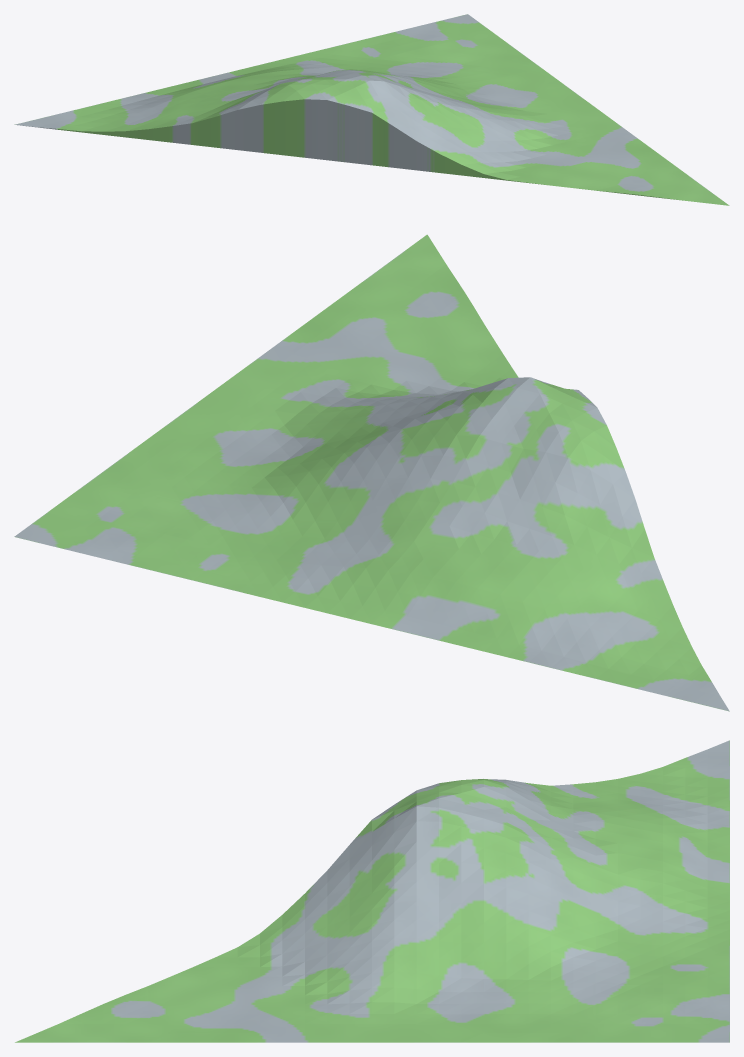
Rendered from Grass_RockyGround_11_SE.obj.
The picture shows the model from 3 angles, top to bottom: view 1: azimuth 30°, elevation 25°; view 2: azimuth 150°, elevation 25°; view 3: azimuth 270°, elevation 25°; orthographic projection. The views are drawn at different scales.
Size of the model in its own units: 10 by 1.46 by 10.
Materials: 1 (1 with a texture image).
